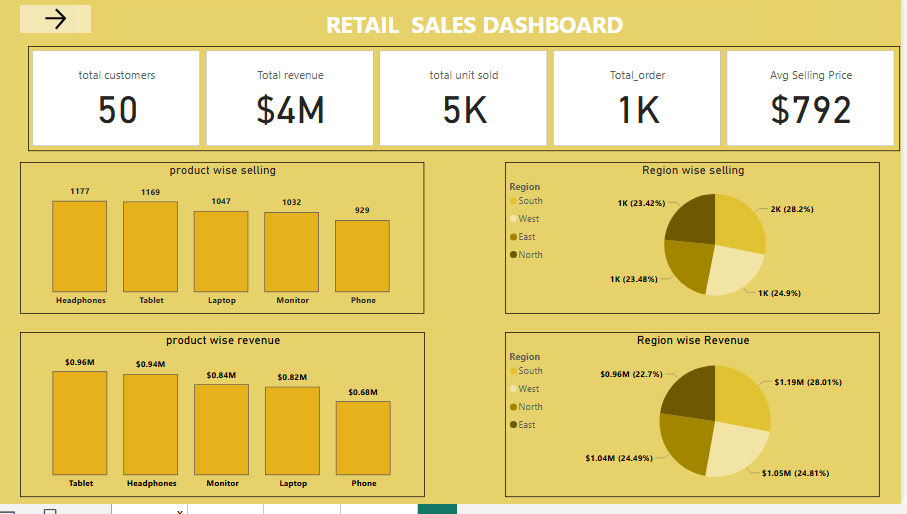

What the dashboard file says about the page in this screenshot:
{"tool":"powerbi","page":{"name":"Page 1","canvas":[1280,720],"ordinal":0},"visuals":[{"type":"shape","box":[109.1,0,1061.6,70.9],"z":0},{"type":"textbox","box":[177.2,12.8,902.8,87.9],"z":1000},{"type":"cardVisual","fields":{"Data":["Customers.total customers","Customers.Total revenue","Customers.total unit sold","Customers.Total_order","Customers.Avg Selling Price"]},"box":[43.9,70.9,1235.9,148.8],"z":2000},{"type":"columnChart","title":"product wise selling","fields":{"Category":["Products.Product"],"Y":["Sum(Sales.UnitsSold)"]},"box":[32.6,235.3,572.6,215.4],"z":3000},{"type":"pieChart","title":"Region wise selling","fields":{"Category":["Sales.Region"],"Y":["Sum(Sales.UnitsSold)"]},"box":[720,235.3,531.5,215.4],"z":4000},{"type":"columnChart","title":"product wise revenue","fields":{"Category":["Products.Product"],"Y":["Customers.Total revenue"]},"box":[32.6,476.2,574,233.9],"z":5000},{"type":"pieChart","title":"Region wise Revenue","fields":{"Category":["Sales.Region"],"Y":["Sum(Sales.Revenue)"]},"box":[720,476.2,531.5,233.9],"z":6000},{"type":"actionButton","box":[32.6,12.8,100.6,39.7],"z":8000}]}

Visuals, with their boxes on the page's 1280x720 design canvas (x1, y1, x2, y2). These are canvas units, not pixel positions in the 907x514 screenshot, which may show the page scaled, cropped or inside an application window:
shape: crop(109, 0, 1171, 71)
textbox: crop(177, 13, 1080, 101)
cardVisual - Customers.total customers x Customers.Total revenue: crop(44, 71, 1280, 220)
"product wise selling" columnChart: crop(33, 235, 605, 451)
"Region wise selling" pieChart: crop(720, 235, 1252, 451)
"product wise revenue" columnChart: crop(33, 476, 607, 710)
"Region wise Revenue" pieChart: crop(720, 476, 1252, 710)
actionButton: crop(33, 13, 133, 52)
